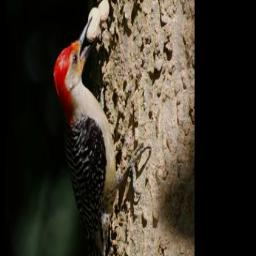Woodpecker: (53, 16, 154, 256)
